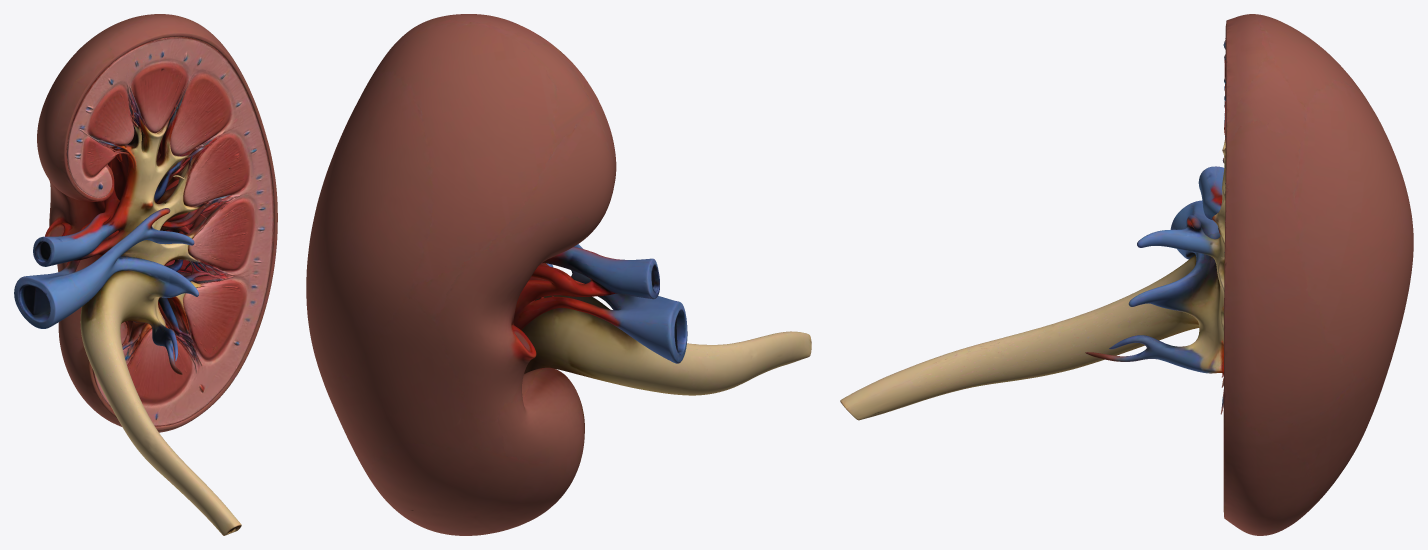
Rendered from kidney.glb.
3 views of the same model, side by side, from view 1: azimuth 30°, elevation 25°; view 2: azimuth 150°, elevation 25°; view 3: azimuth 270°, elevation 25° (orthographic). The views are drawn at different scales.
Parts seen in each view (by area): view 1: node_0; view 2: node_0; view 3: node_0.
Boxes of the visible parts, <box> form: node_0: <box>14,14,277,535</box>; node_0: <box>306,14,811,535</box>; node_0: <box>840,14,1413,535</box>.
Bounding box in the file's own units: 0.5945 × 0.8866 × 0.9395.
Materials: 1 (1 with a texture image).
